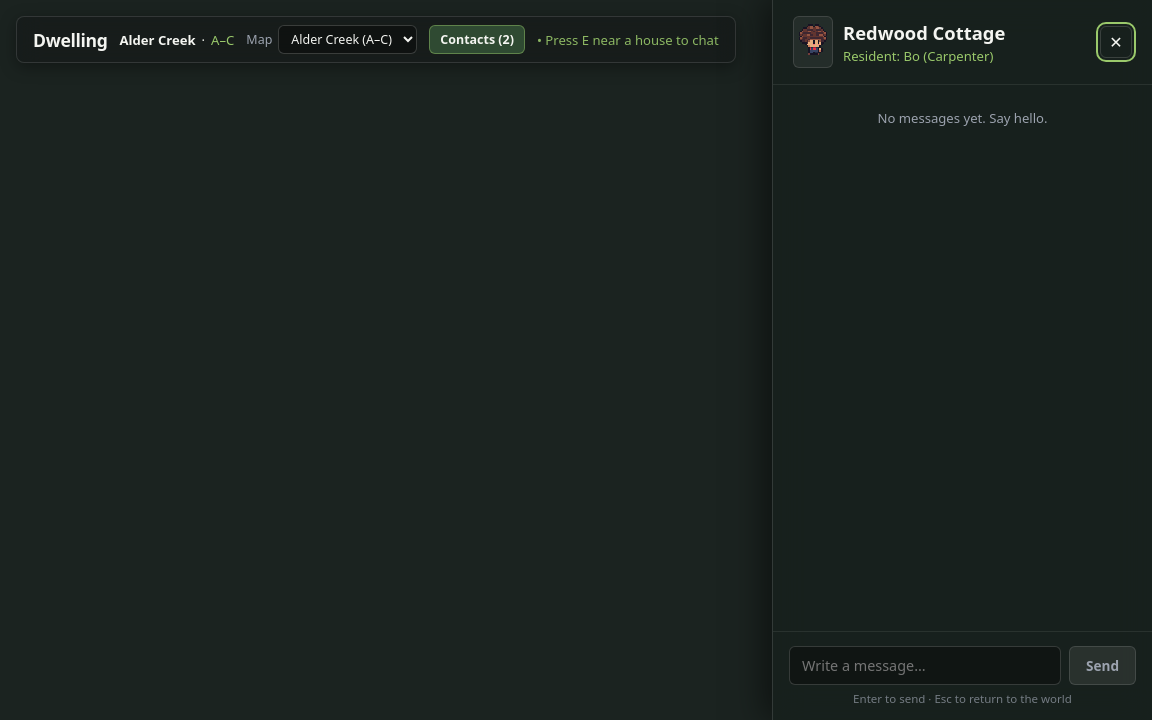
App conversation drawer › closes and cleans up chat when the active map is selected
Expected: the button "Contacts (2)" is shown, x1=429 y1=25 x2=525 y2=54
Expected: the text "No messages yet. Say hello." is shown, x1=877 y1=109 x2=1048 y2=127
Select "Alder Creek (A–C)" in the dropdown named "Switch map": (348, 40) x1=278 y1=25 x2=417 y2=54
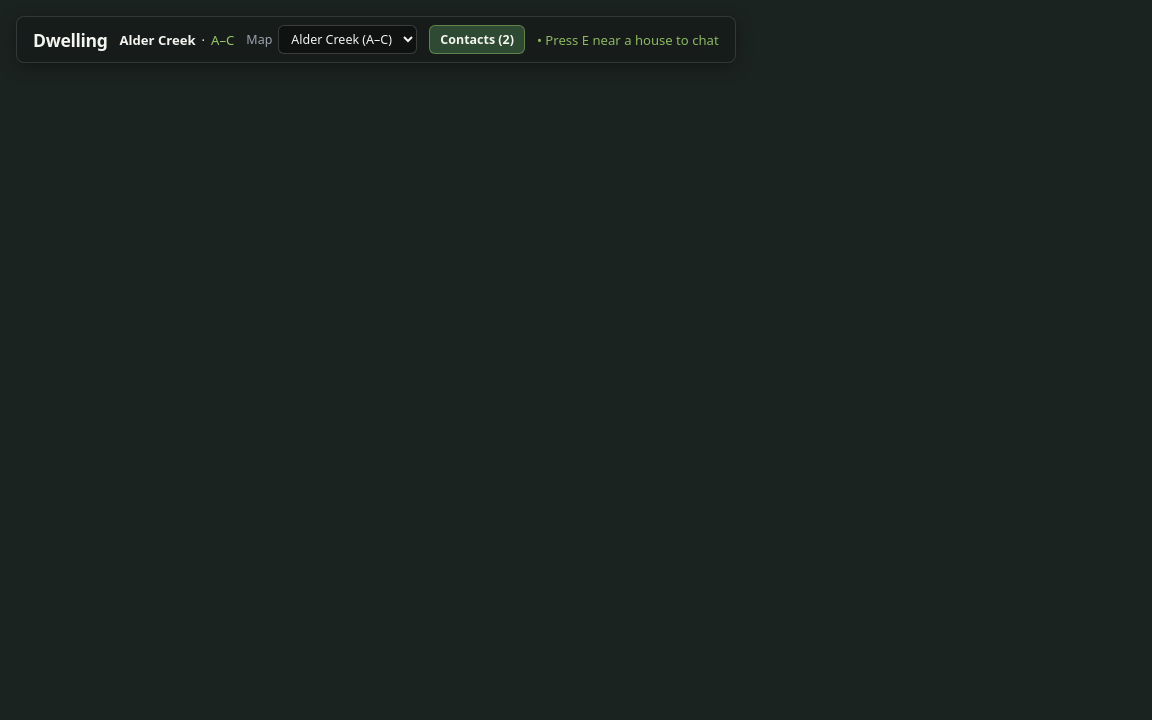
Result: the dialog is gone
